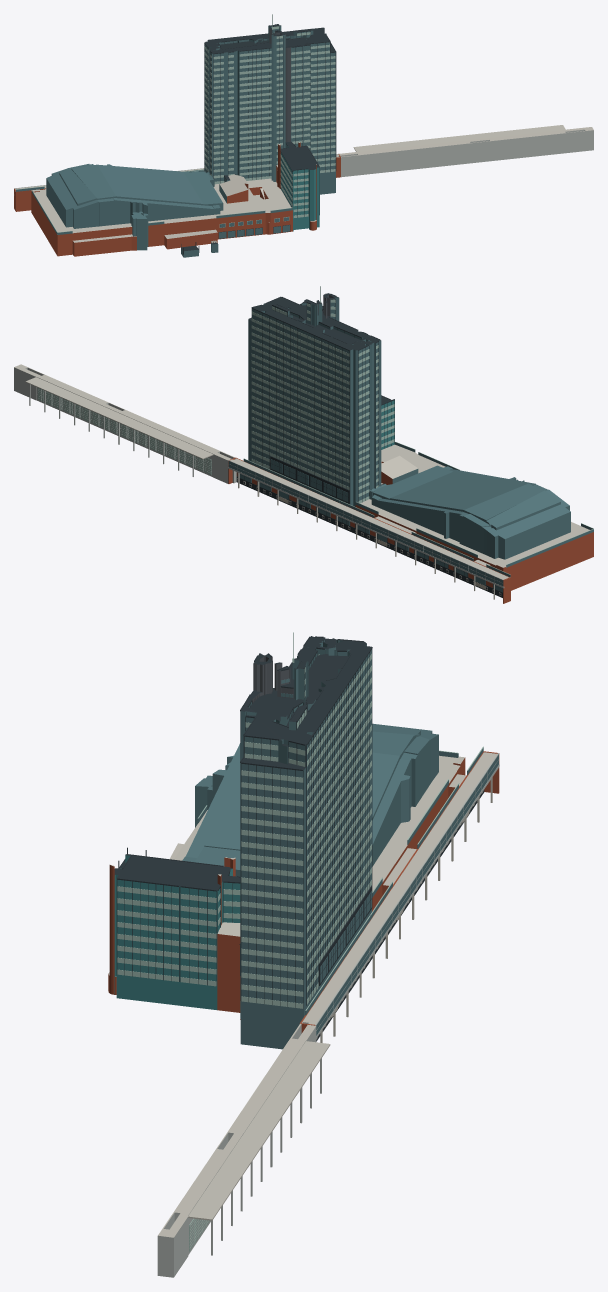
Rendered from ij-toren.glb.
3 views of the same model, one above another, from view 1: azimuth 30°, elevation 25°; view 2: azimuth 150°, elevation 25°; view 3: azimuth 270°, elevation 25° (orthographic). The views are drawn at different scales.
Parts seen in each view (by area): view 1: ij-toren; view 2: ij-toren; view 3: ij-toren.
Boxes of the visible parts, <box> form: ij-toren: <box>14,14,593,257</box>; ij-toren: <box>14,286,593,603</box>; ij-toren: <box>108,632,499,1277</box>.
Size of the model in its own units: 282 by 95.11 by 92.95.
